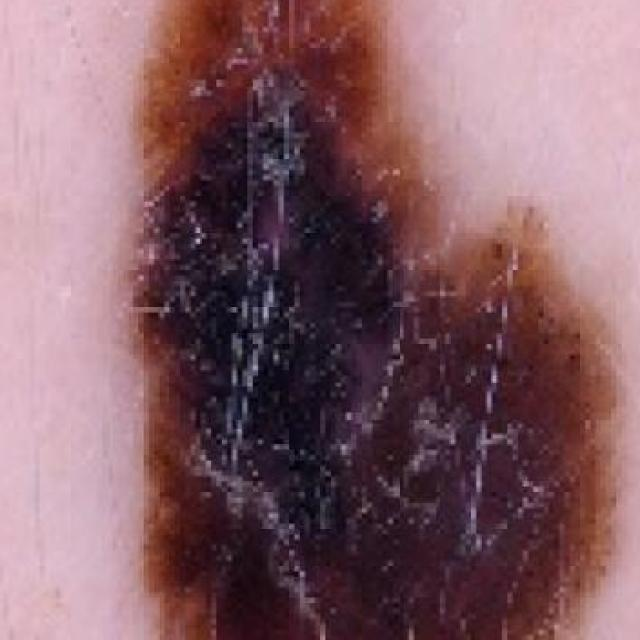MEL: (138, 0, 636, 640)
